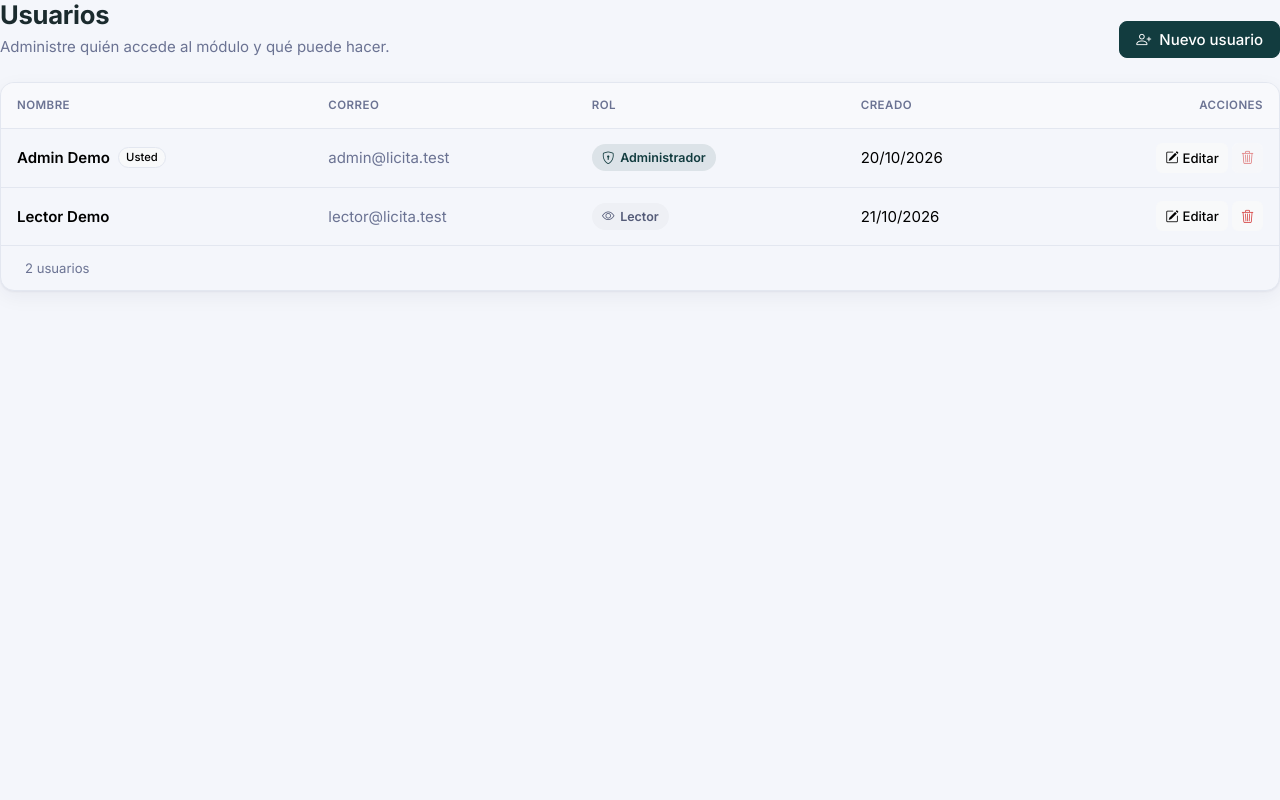
Test: UsersView › shows API validation errors on the fields
Click the button "Nuevo usuario". click: click(1200, 39)
box: [1119,21,1279,58]
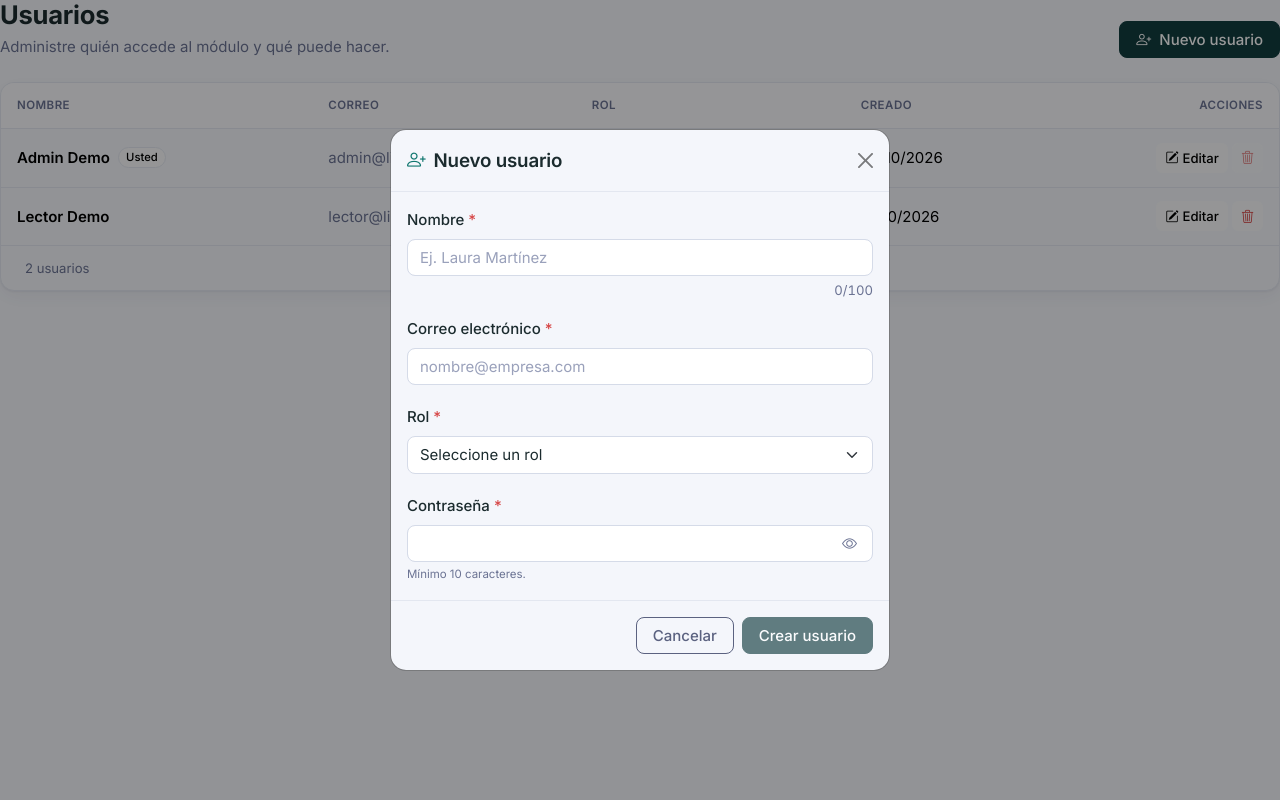
Type "Duplicado" into the field with id "user-name". click: (640, 258)
box: [407,239,873,276]
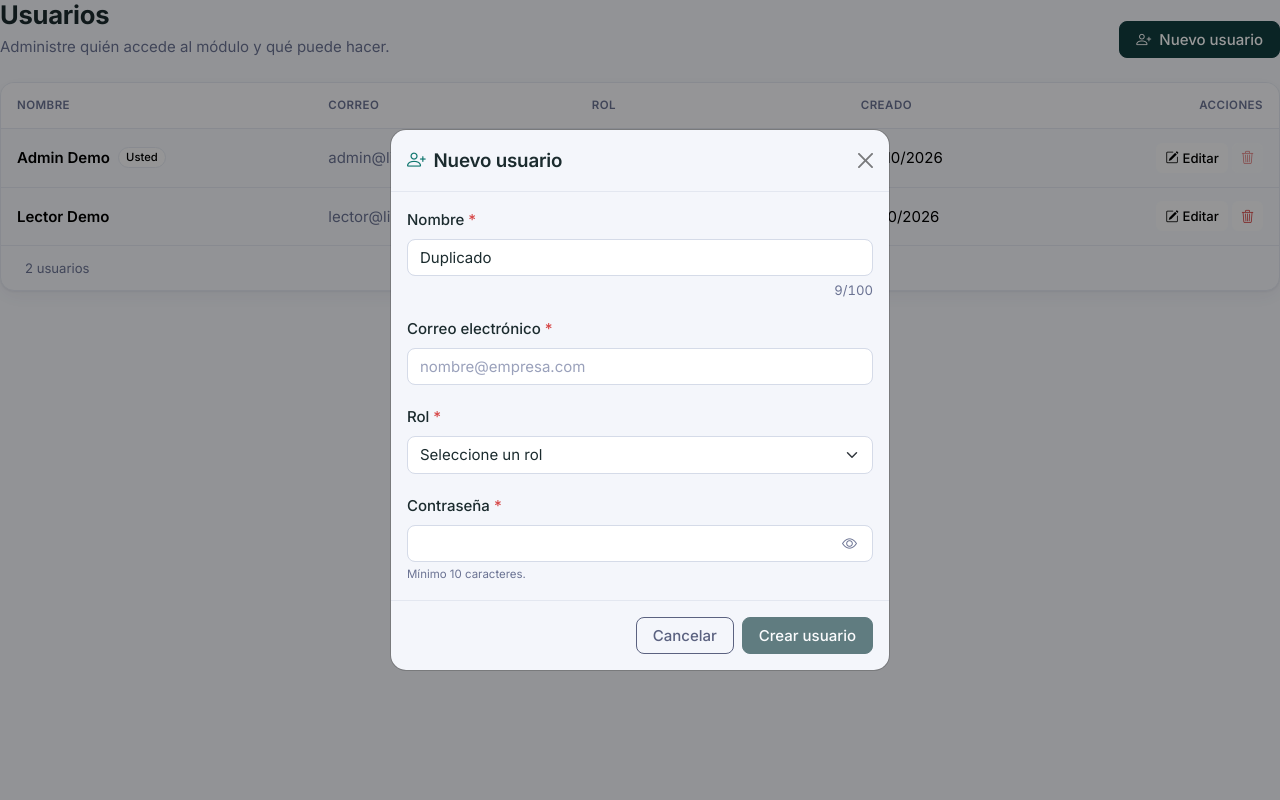
Type "lector@licita.test" into the field with id "user-email". click: (640, 367)
box: [407,348,873,385]
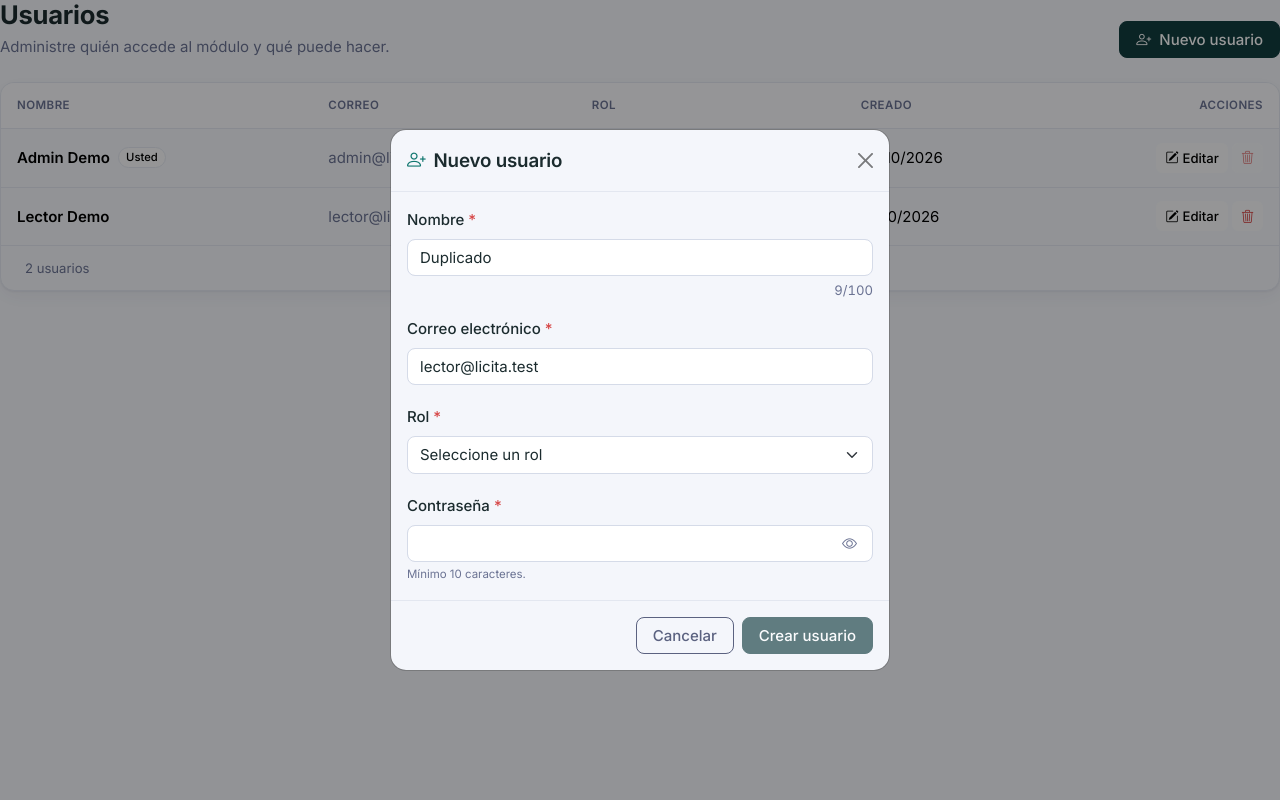
Select "Lector" in the dropdown with id "user-role". click: (640, 455)
box: [407,436,873,474]
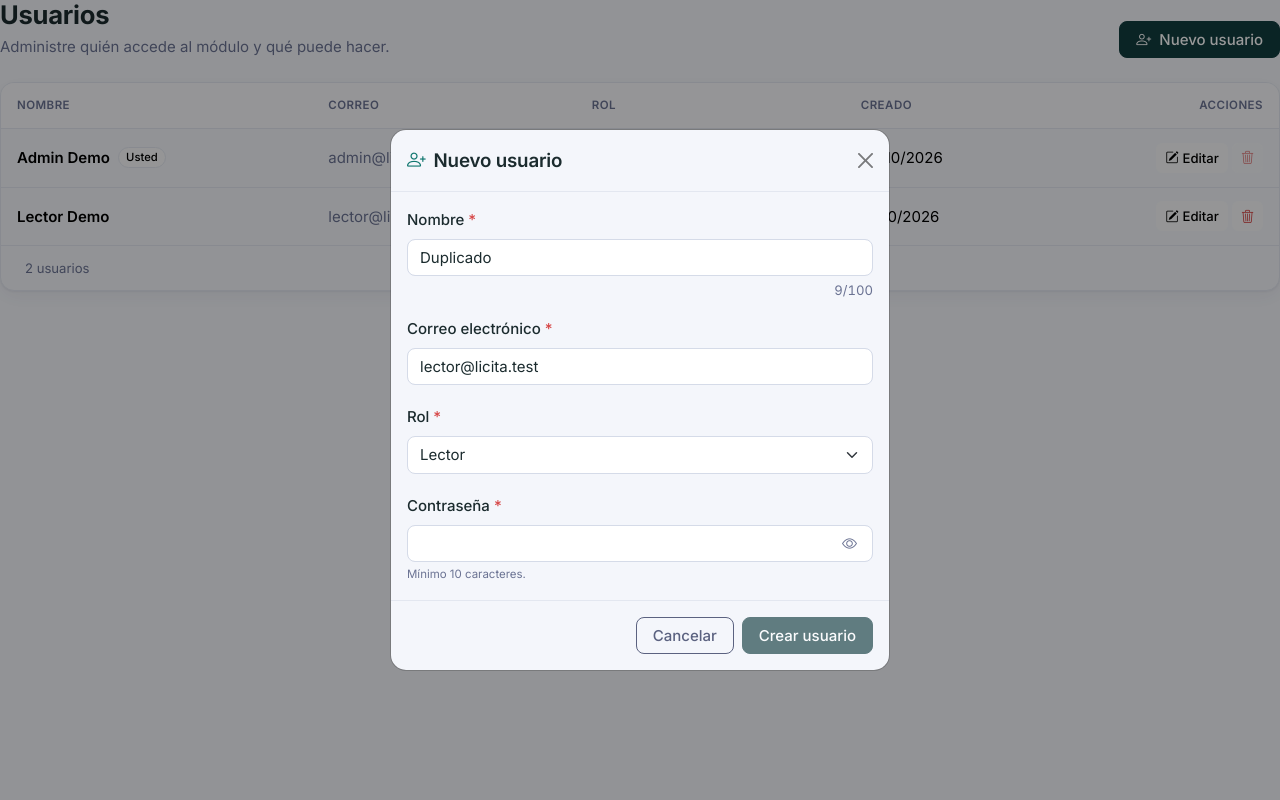
Type "Clave-Segura-2026" into the password field with id "user-password". click: (640, 544)
box: [407,525,873,562]
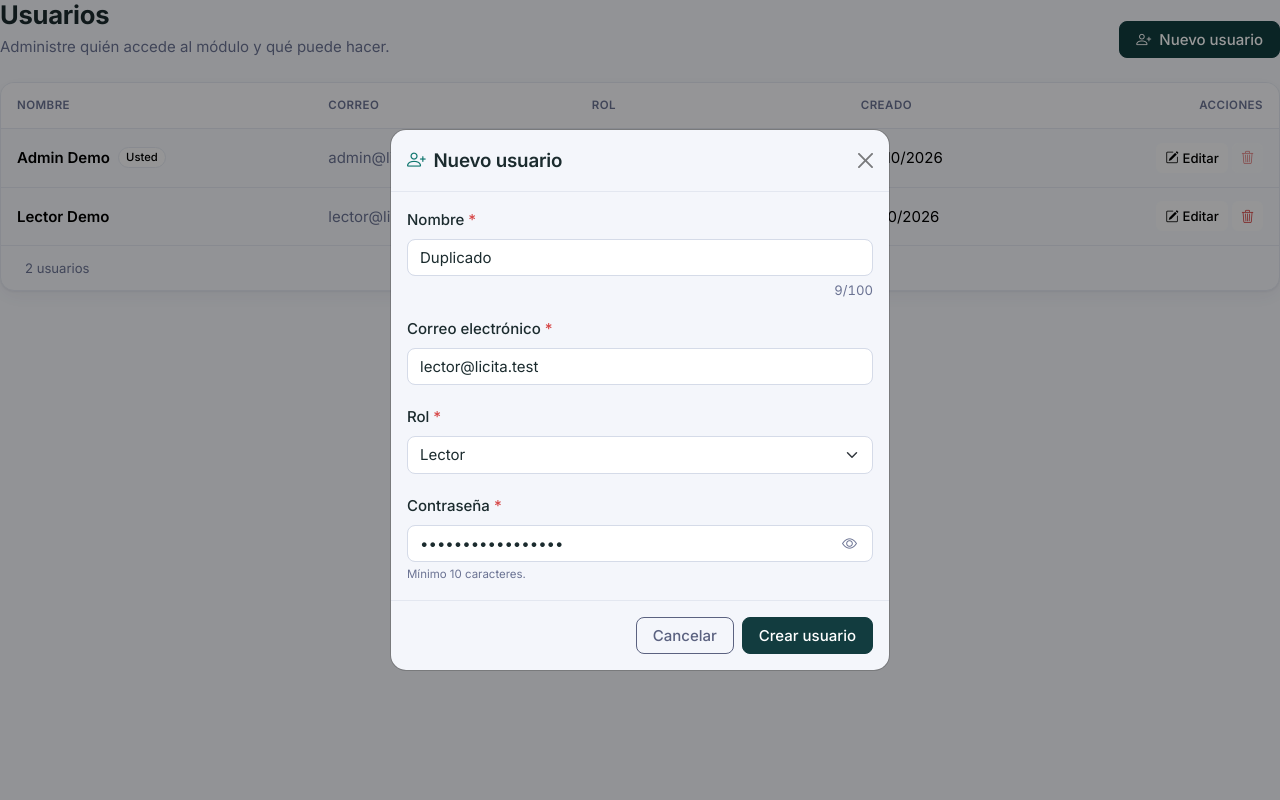
Submit the form with id "user-form", box [407,208,873,584]
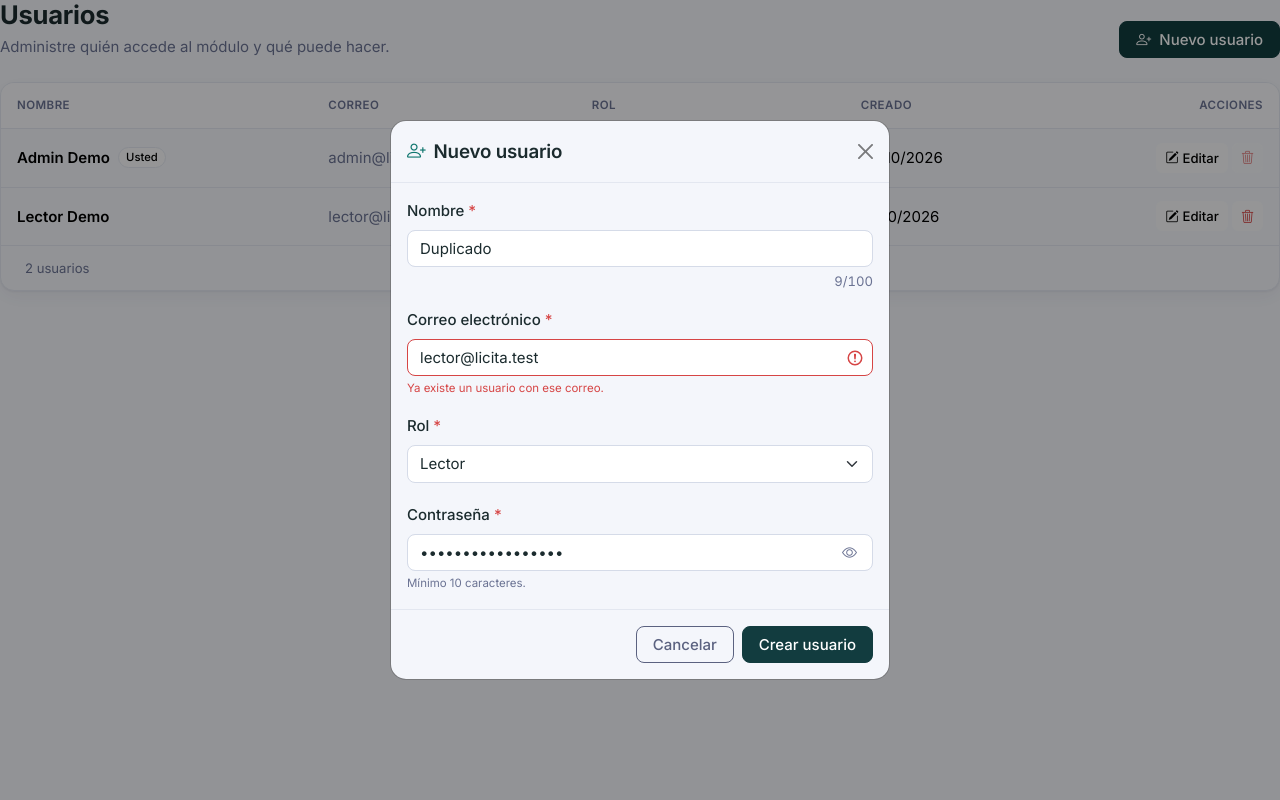
Expected: the text with id "user-email-error" reads "Ya existe un usuario con ese correo.", [407,381,604,395]
